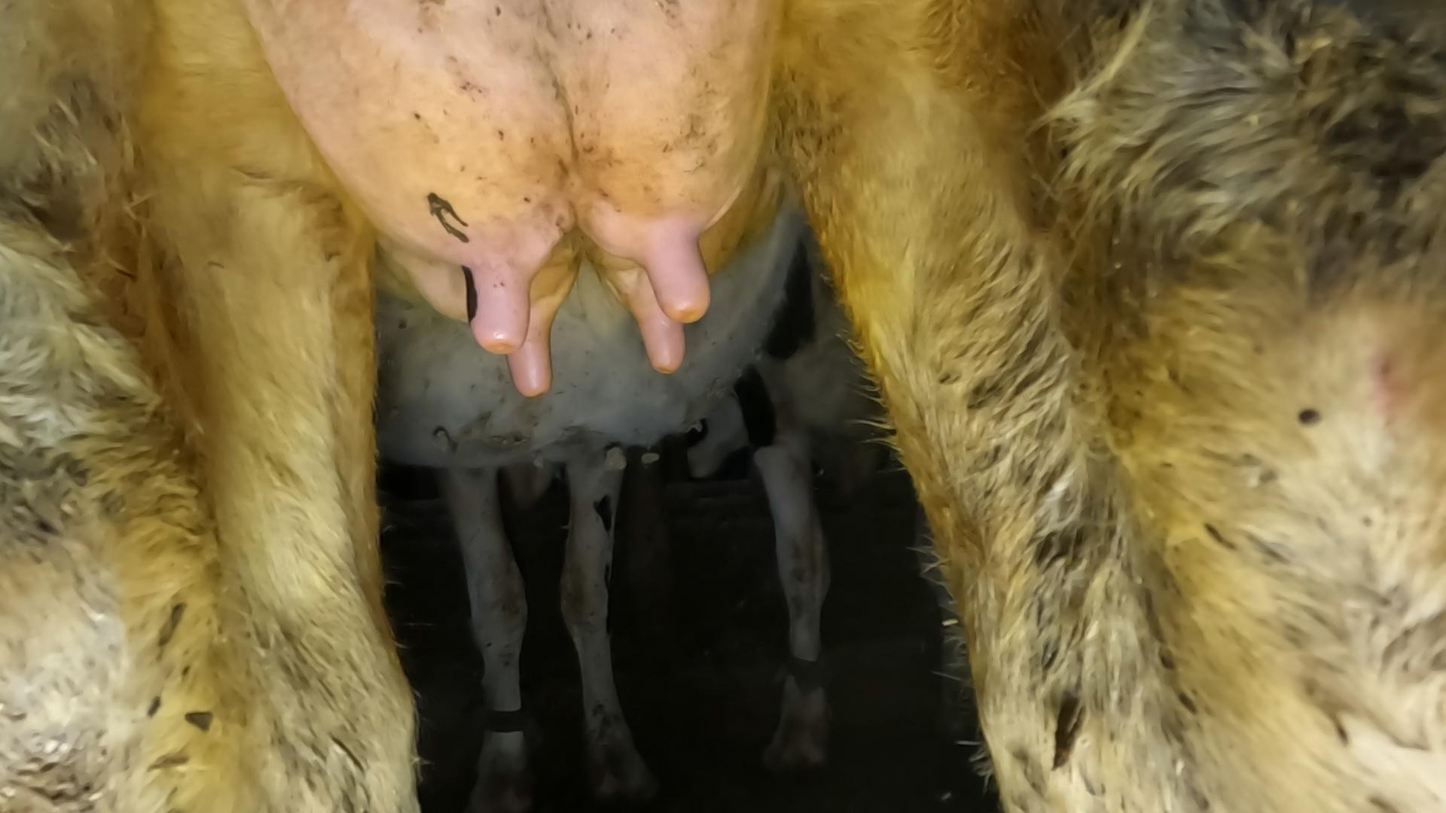Zitze: (436, 251, 541, 356), (627, 220, 724, 332), (622, 288, 702, 373), (496, 313, 568, 400)
